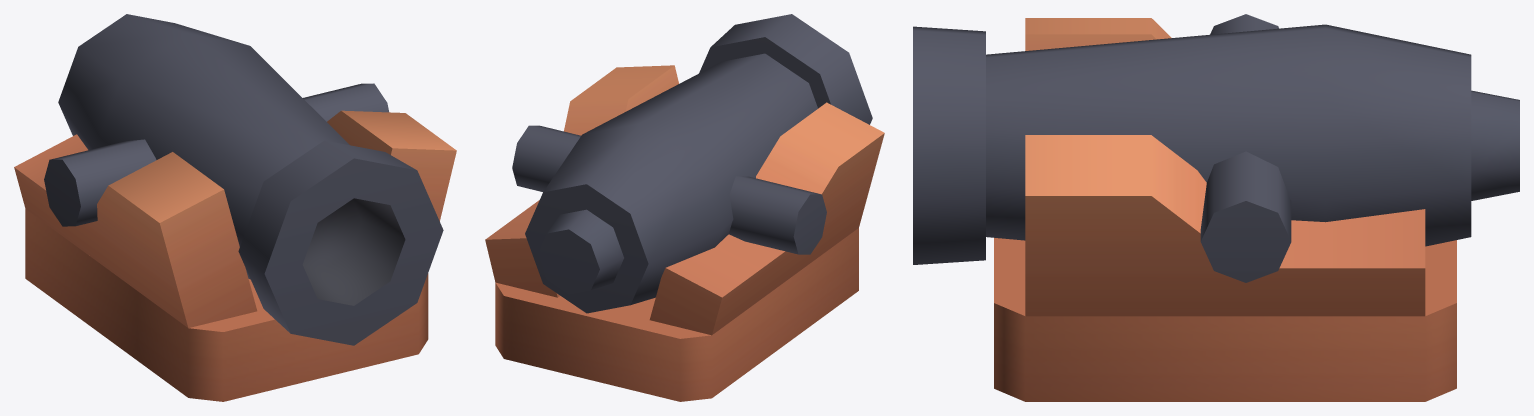
Rendered from k-pirate-cannon.glb.
3 views of the same model, side by side, from view 1: azimuth 30°, elevation 25°; view 2: azimuth 150°, elevation 25°; view 3: azimuth 270°, elevation 25° (orthographic). The views are drawn at different scales.
Visible parts, largest first — view 1: cannon, Group (×2); view 2: cannon, Group (×2); view 3: cannon, Group (×2).
Boxes of the visible parts, x1,y1,x2,y2 form: cannon: (25,14,443,401); Group (×2): (14,110,456,327); cannon: (495,14,872,401); Group (×2): (485,65,884,335); cannon: (913,14,1519,401); Group (×2): (1025,18,1425,316).
Bounding box in the file's own units: 1.4 × 1.05 × 1.92.
1 material, 1 textured.
